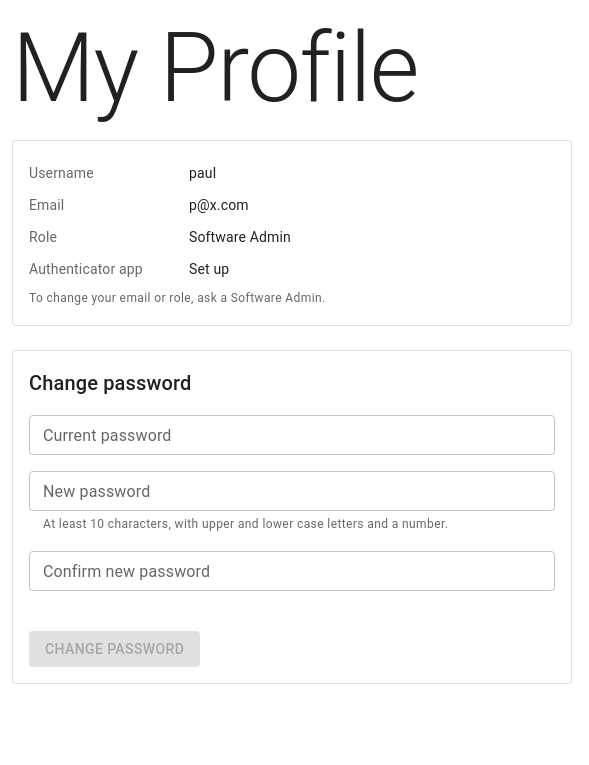
Test: MyProfile › changes the password once the new one meets the policy and matches
In the password field labelled "Current password": (292, 435) [29,415,555,455], type "OldPassw0rd!"
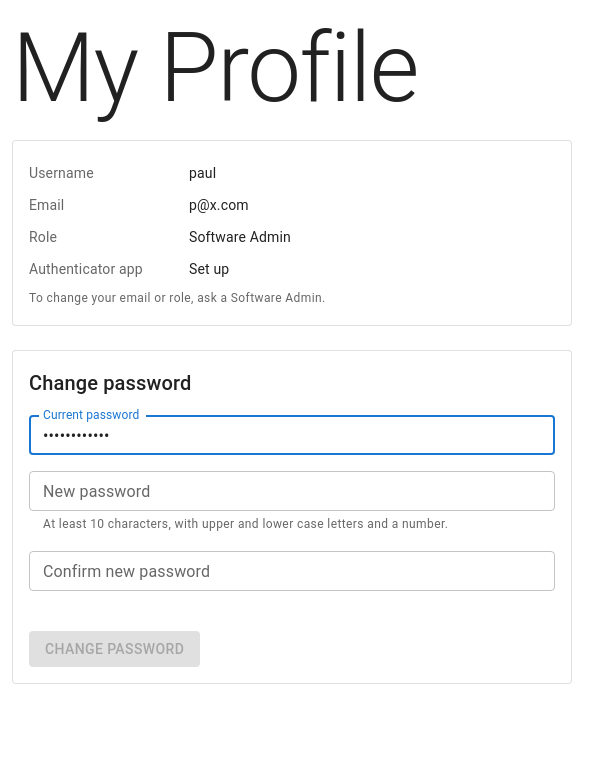
In the password field labelled "New password": (292, 491) [29,471,555,511], type "weak"
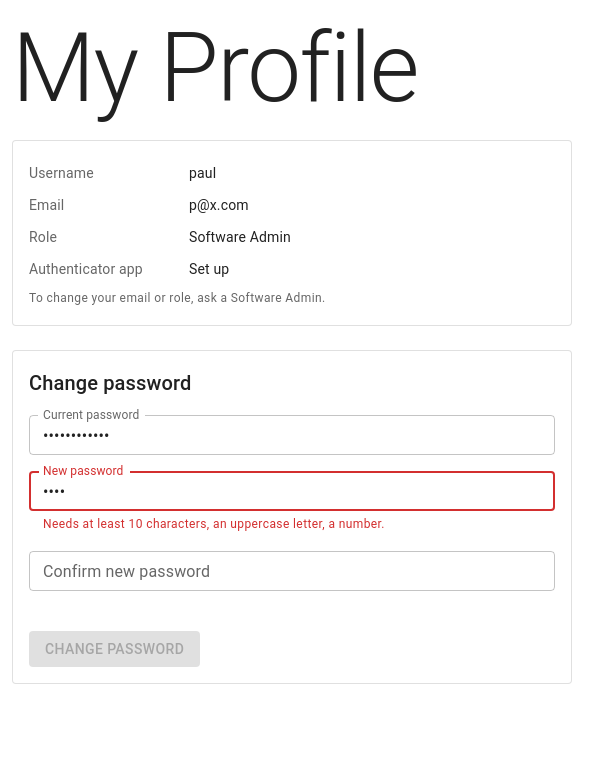
Check: the button "Change password" is disabled, box [29,631,200,667]
Check: the text "Needs at least 10 characters, an uppercase letter, a number." is shown, box [43,517,385,531]
In the password field labelled "New password": (292, 491) [29,471,555,511], type "NewPassw0rd2026"
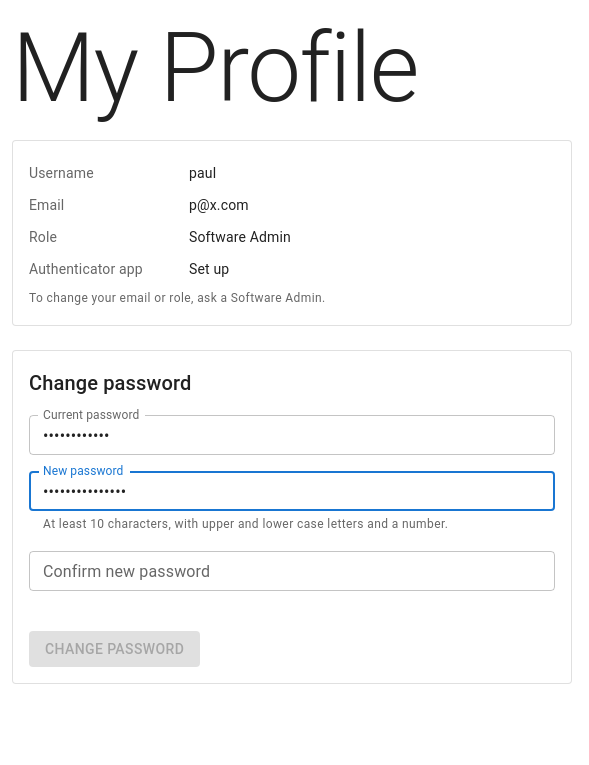
In the password field labelled "Confirm new password": (292, 571) [29,551,555,591], type "NewPassw0rd2027"
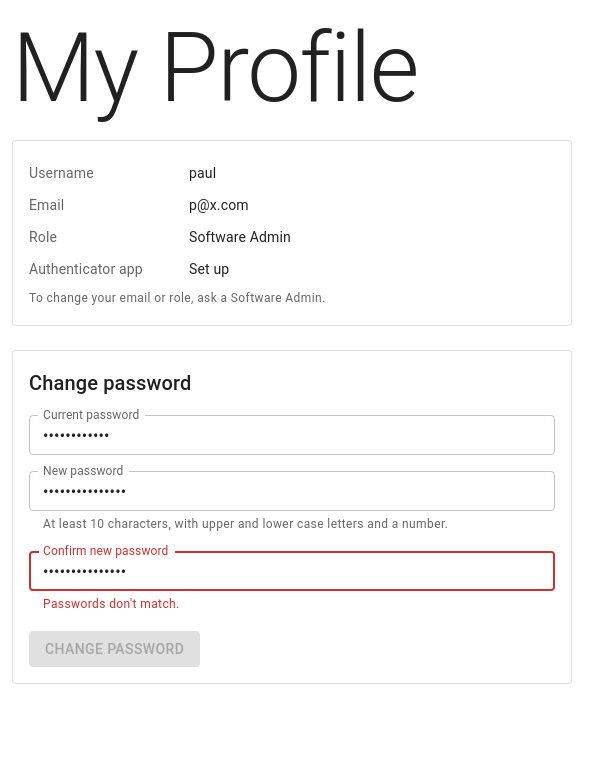
Check: the button "Change password" is disabled, box [29,631,200,667]
Check: the text "Passwords don't match." is shown, box [43,597,180,611]
In the password field labelled "Confirm new password": (292, 571) [29,551,555,591], type "NewPassw0rd2026"
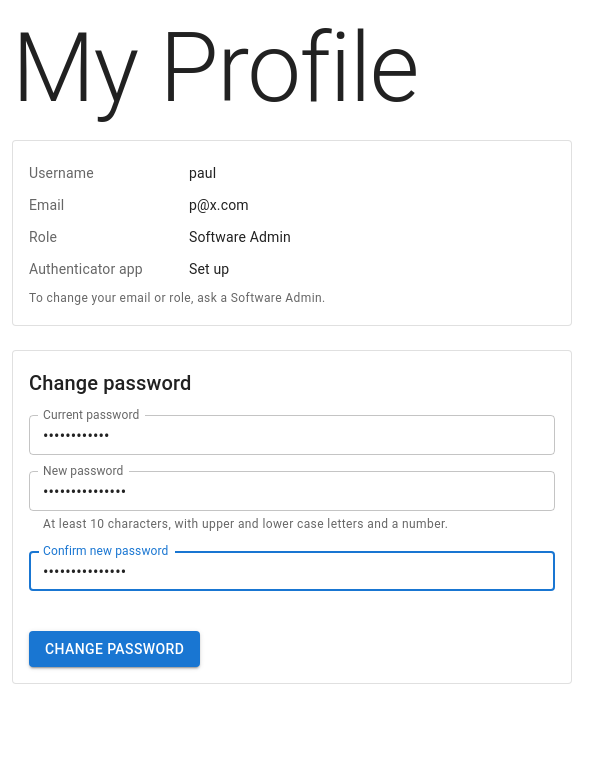
Click the button "Change password": (115, 649) [29,631,200,667]
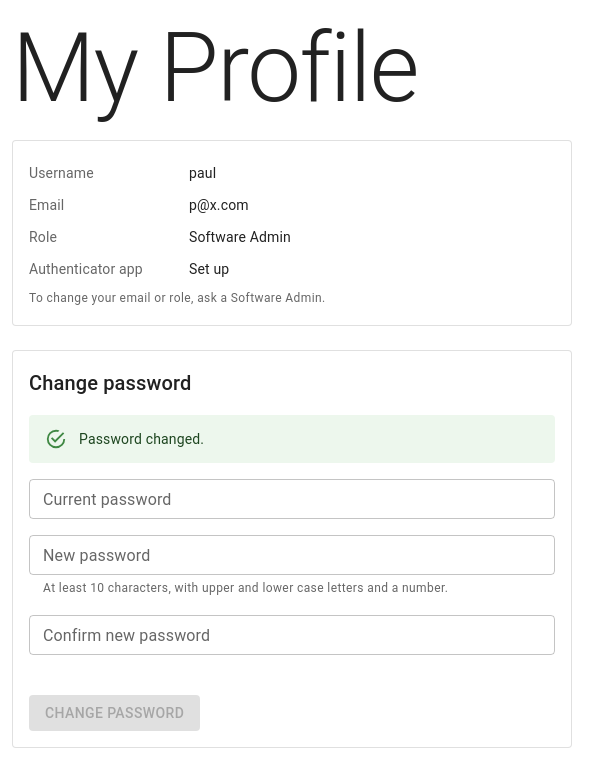
Check: the text "Password changed." is shown, box [79,431,204,447]
